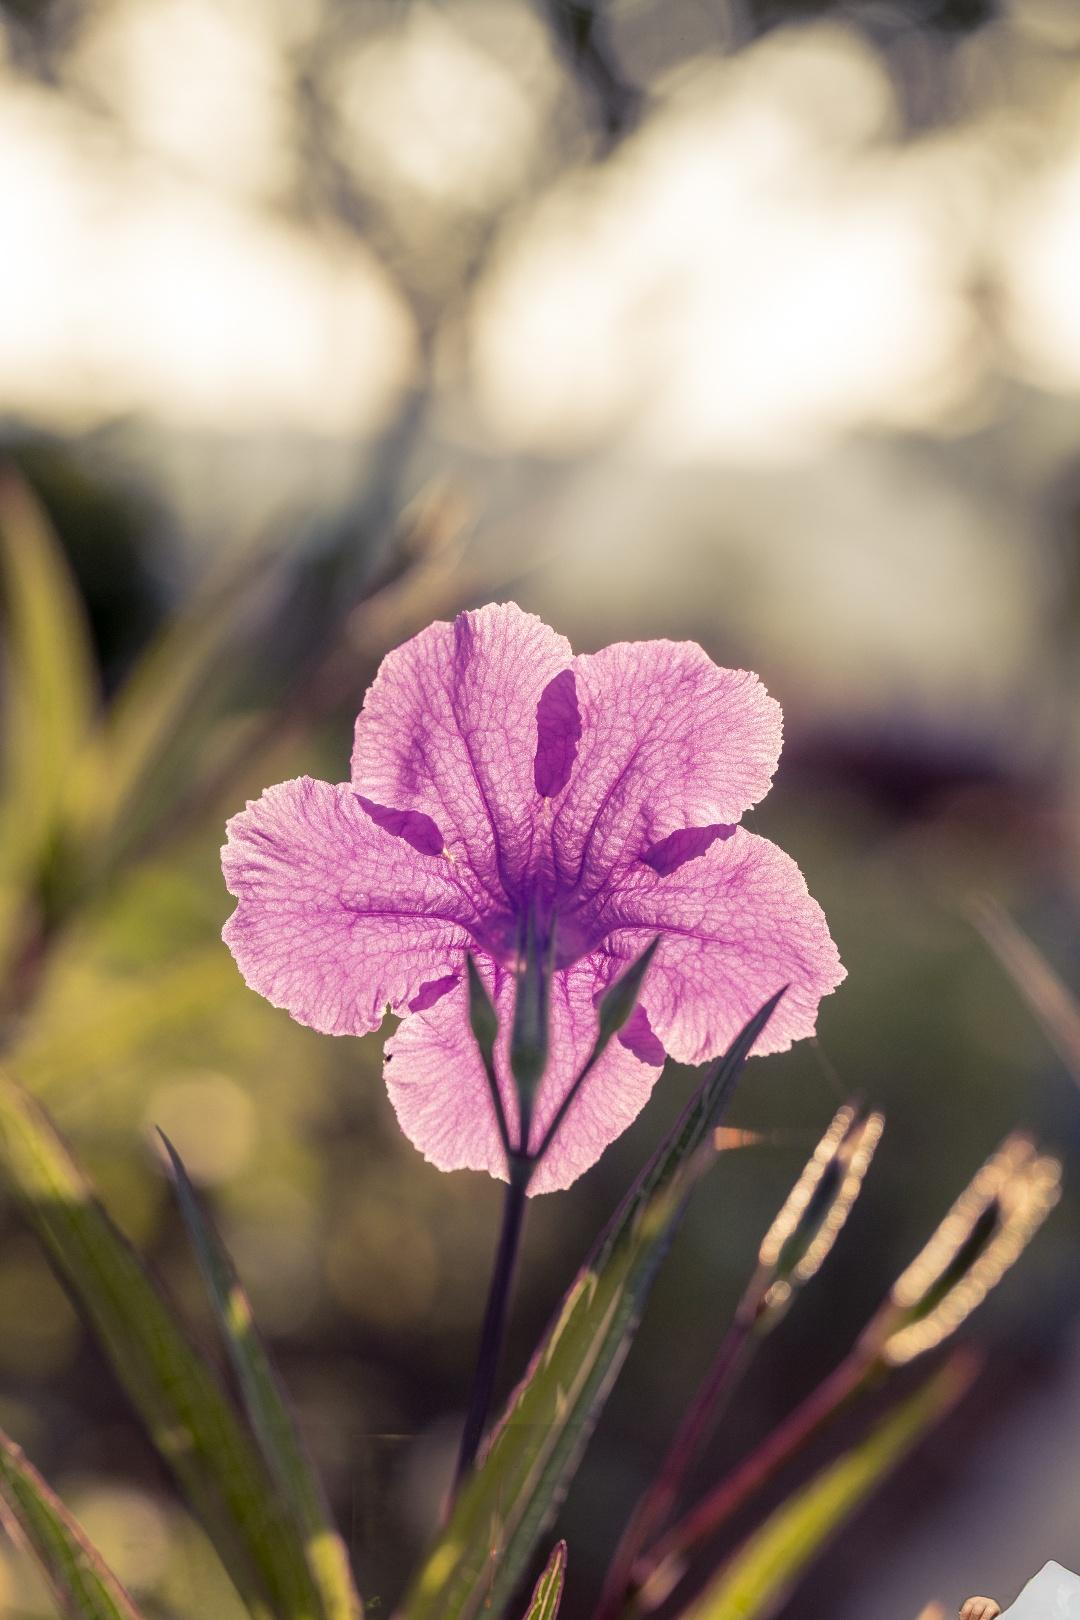plastic-bag: (959, 1557, 1080, 1620)
trashbox-cardboard: (115, 1424, 620, 1620)
